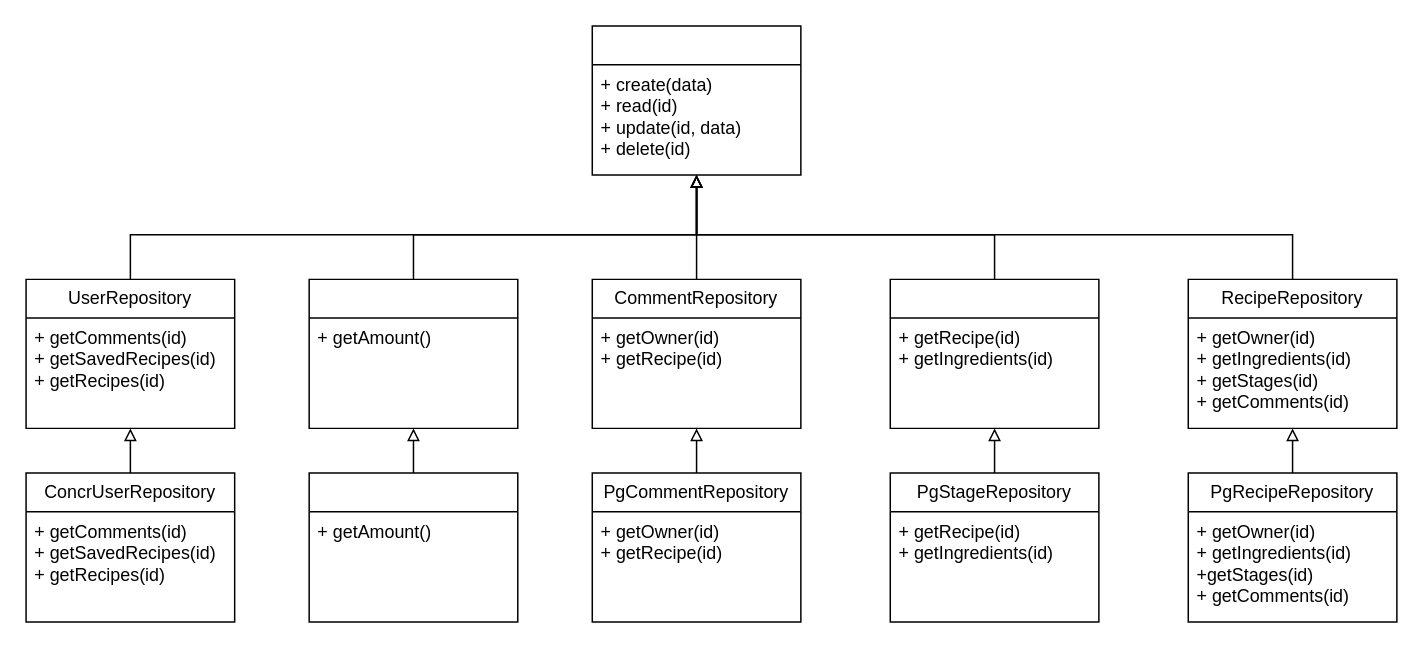
Some shapes in this 1423 by 653 pixel diagram are drawn without their labels. Here are the shapes that lost their labels. From the top down, the box of each, then its label:
(591, 25, 801, 175): Repository
(308, 278, 518, 428): IngredientRepository
(889, 278, 1099, 428): StageRepository
(308, 472, 518, 622): PgIngredientRepository
